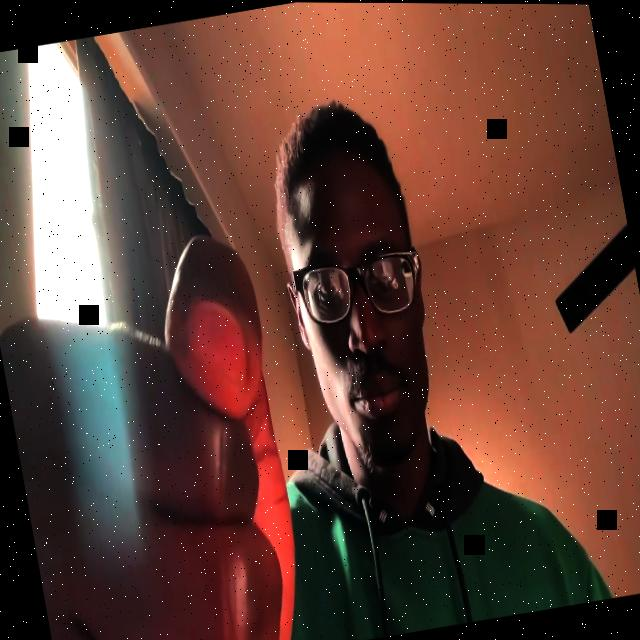Rock: (0, 221, 318, 640)
